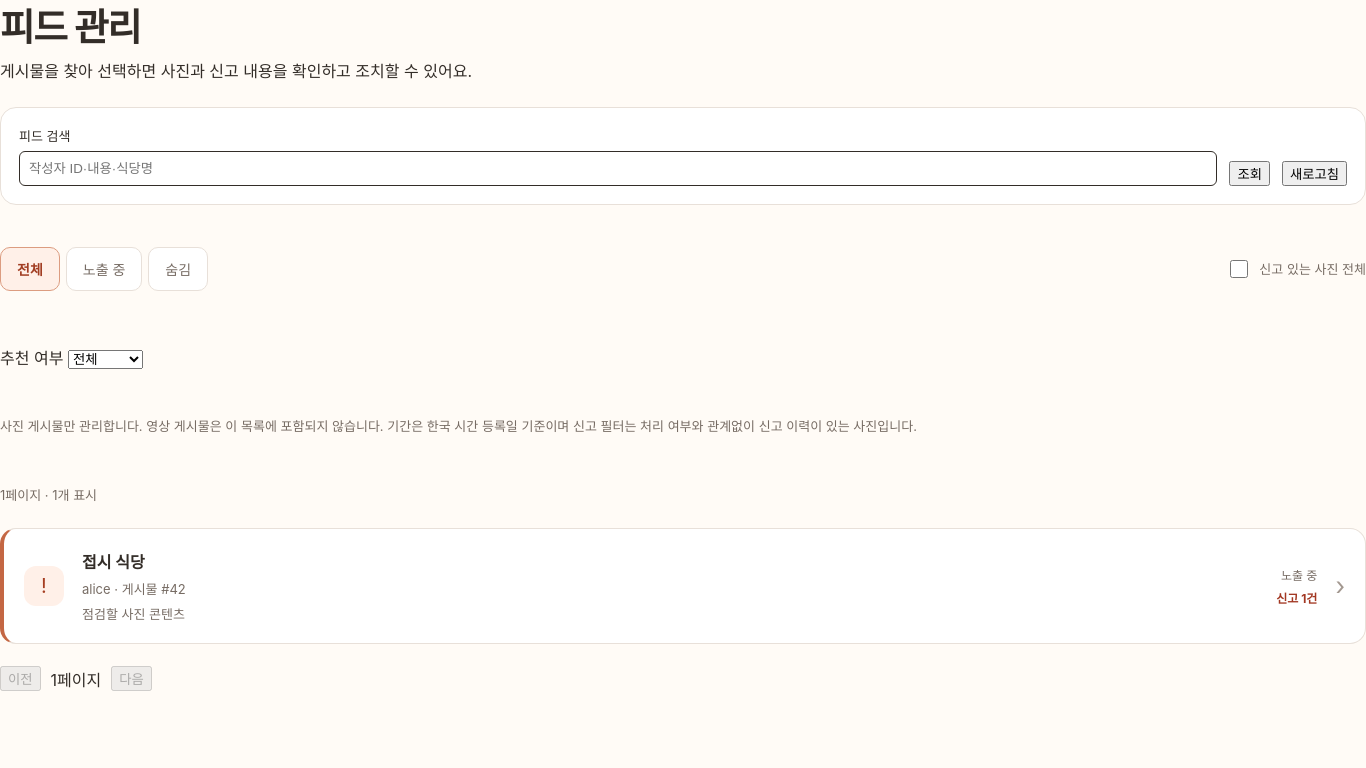
Test case: read-only feed access cannot moderate or read reports without permission
The width and height of the screenshot is (1366, 768).
Click the button with aria-label "피드 #42 검토": (683, 586) [0,528,1365,644]
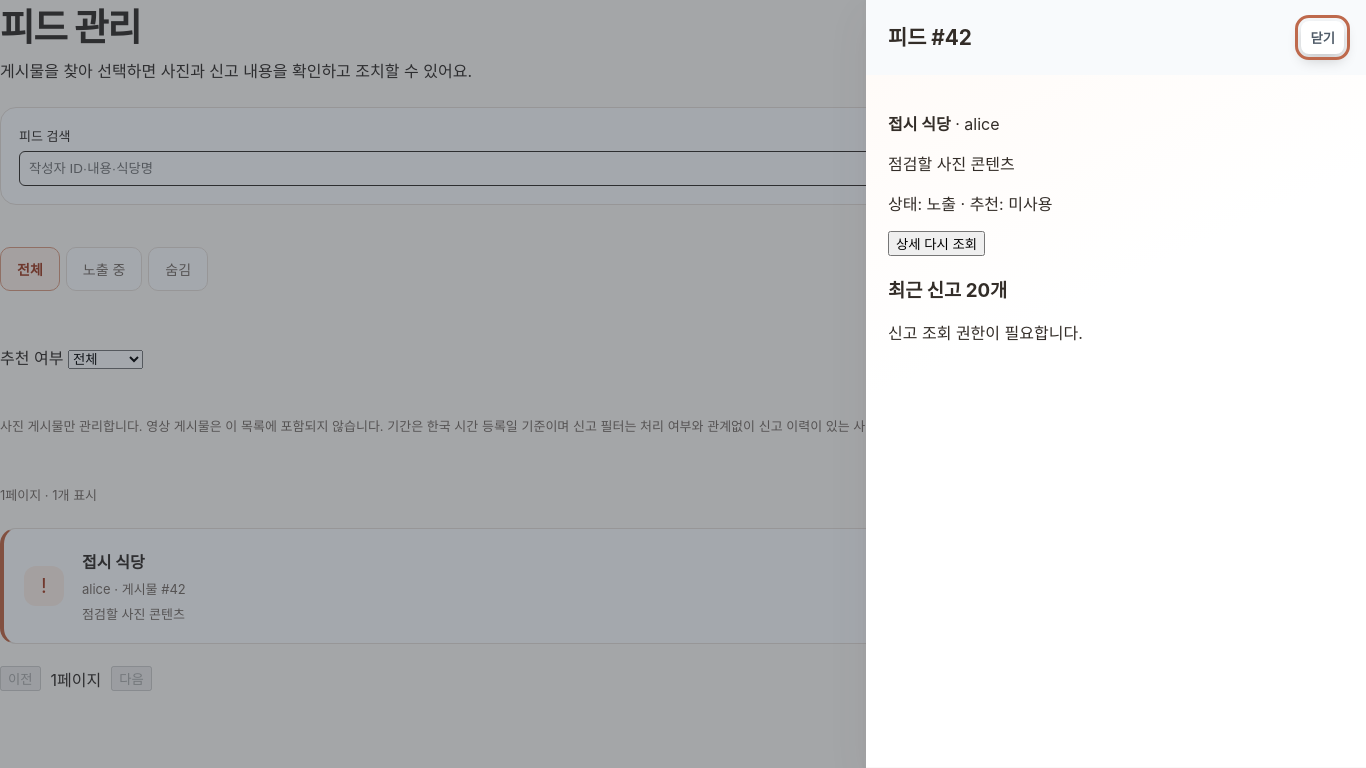
expect the text "점검할 사진 콘텐츠" is shown: met, box [888,154,1015,174]
